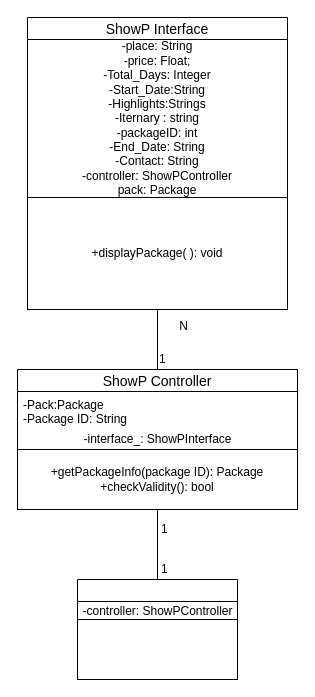
This 315x697 diagram has some shape labels left out. The box of each missing label's shape, as (x1, y1, x2, y2) in pixels:
+storePackage():boolean: (76, 618, 238, 680)
Packages: Entity: (76, 578, 238, 622)
